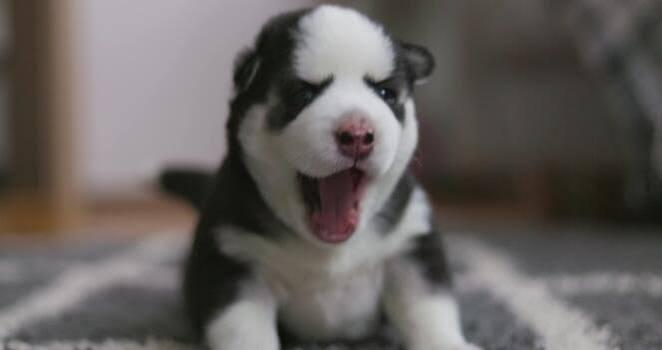puppy-dog: (155, 3, 483, 350)
